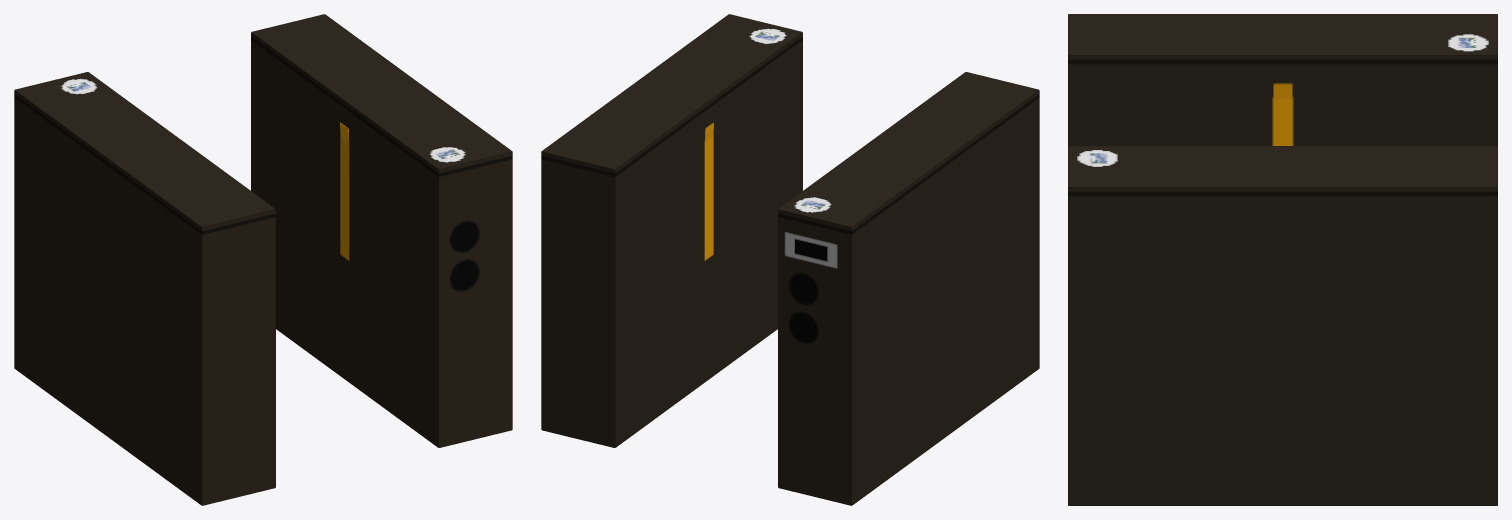
File: dc_metro_fare_gate_3_exit_open.obj
3 renders of one model, left to right at view 1: azimuth 30°, elevation 25°; view 2: azimuth 150°, elevation 25°; view 3: azimuth 270°, elevation 25°, orthographic. The views are drawn at different scales.
Visible parts, largest first — view 1: cube; view 2: cube; view 3: cube.
Boxes of the visible parts, left/top/right/bottom form: cube: left=14, top=14, right=512, bottom=505; cube: left=541, top=14, right=1039, bottom=505; cube: left=1068, top=14, right=1497, bottom=505.
Size of the model in its own units: 1.31 by 1.12 by 1.38.
1 material, 1 textured.
